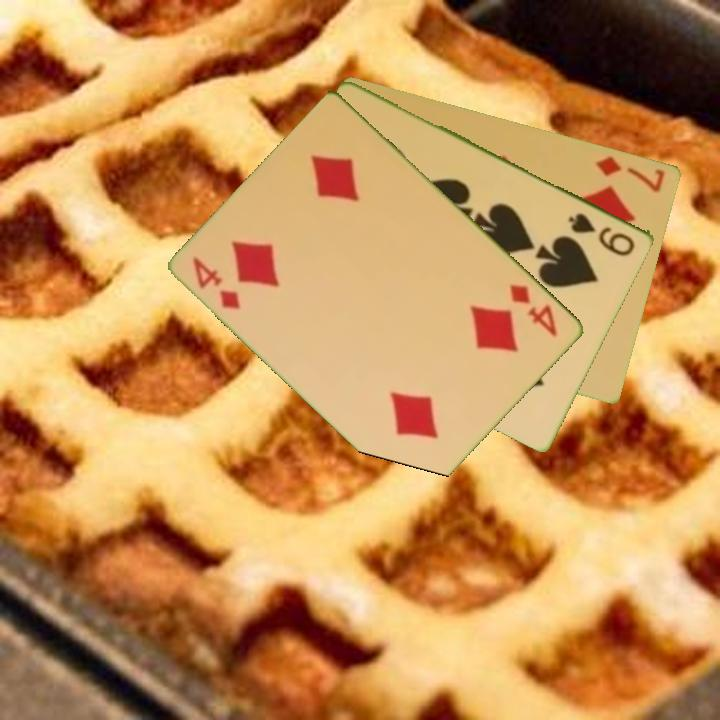4d: (506, 280, 561, 340), (189, 253, 244, 313)
7d: (592, 152, 668, 195)
9s: (565, 209, 639, 259)
